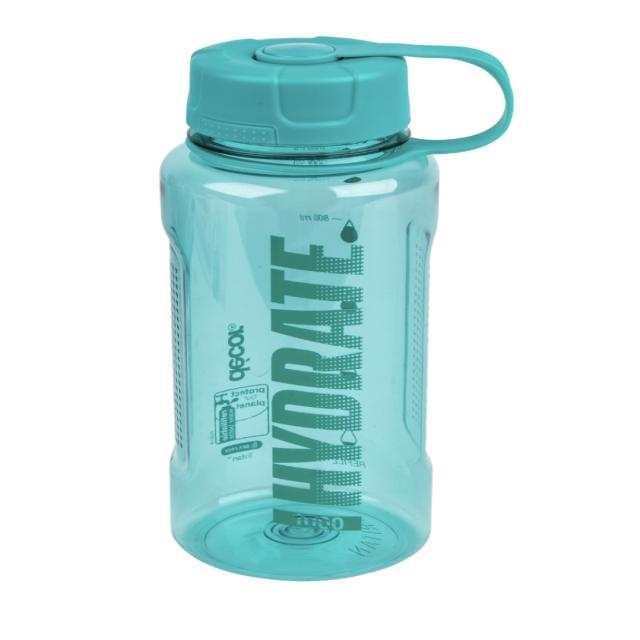recyclable: (106, 4, 549, 600)
